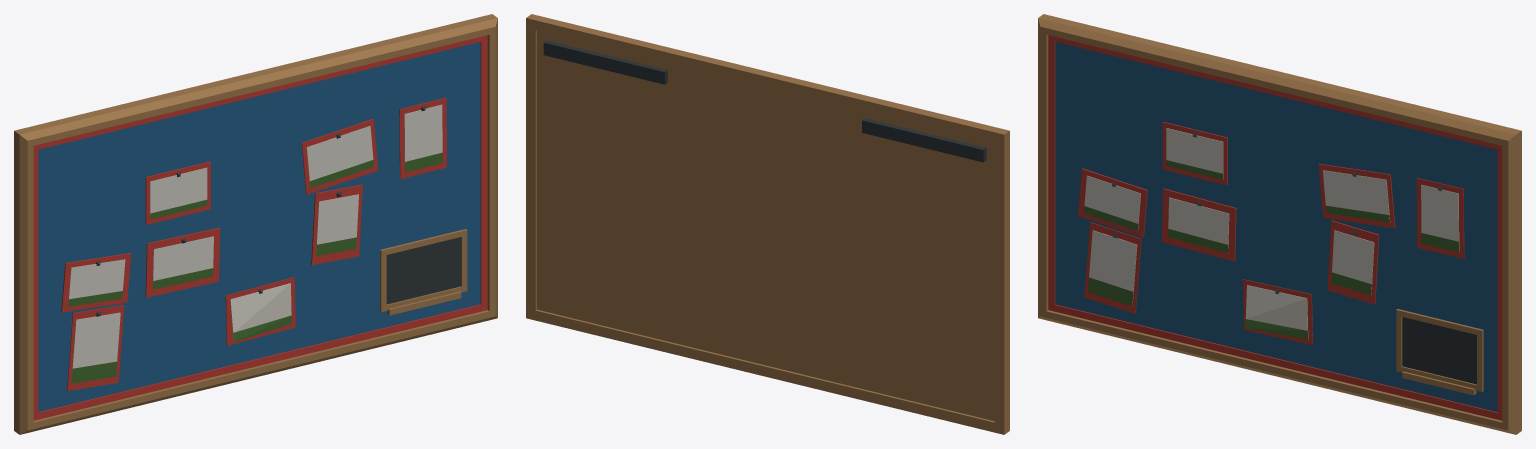
The model's file is wall-display-board-626293.glb.
3 views of the same model, side by side, from view 1: azimuth 30°, elevation 25°; view 2: azimuth 150°, elevation 25°; view 3: azimuth 330°, elevation 25° (orthographic).
Visible parts, largest first — view 1: board, pinned-work; view 2: board; view 3: board, pinned-work.
Part boxes in pixels (x1,y1,x2,y2): board: (14, 14, 497, 434); pinned-work: (61, 97, 446, 390); board: (526, 14, 1009, 434); board: (1038, 14, 1521, 434); pinned-work: (1078, 122, 1464, 344).
Size of the model in its own units: 2 by 1.2 by 0.0776.
